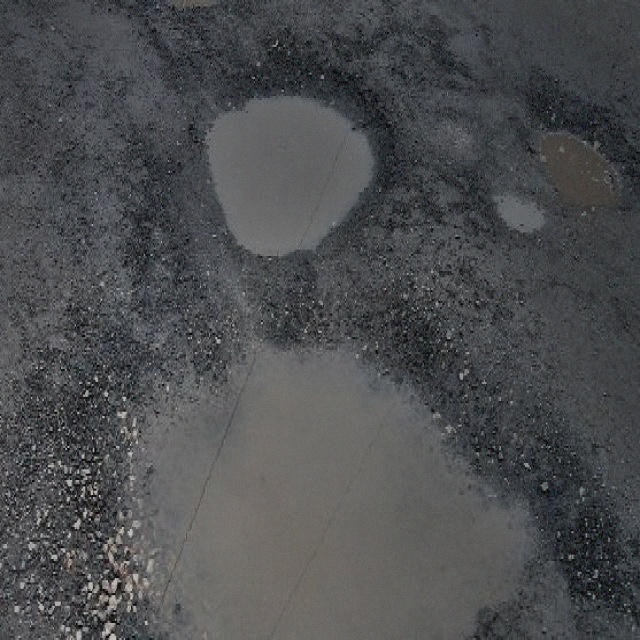pothole: (92, 286, 604, 638), (190, 58, 388, 260), (524, 92, 639, 213), (492, 181, 547, 237)
